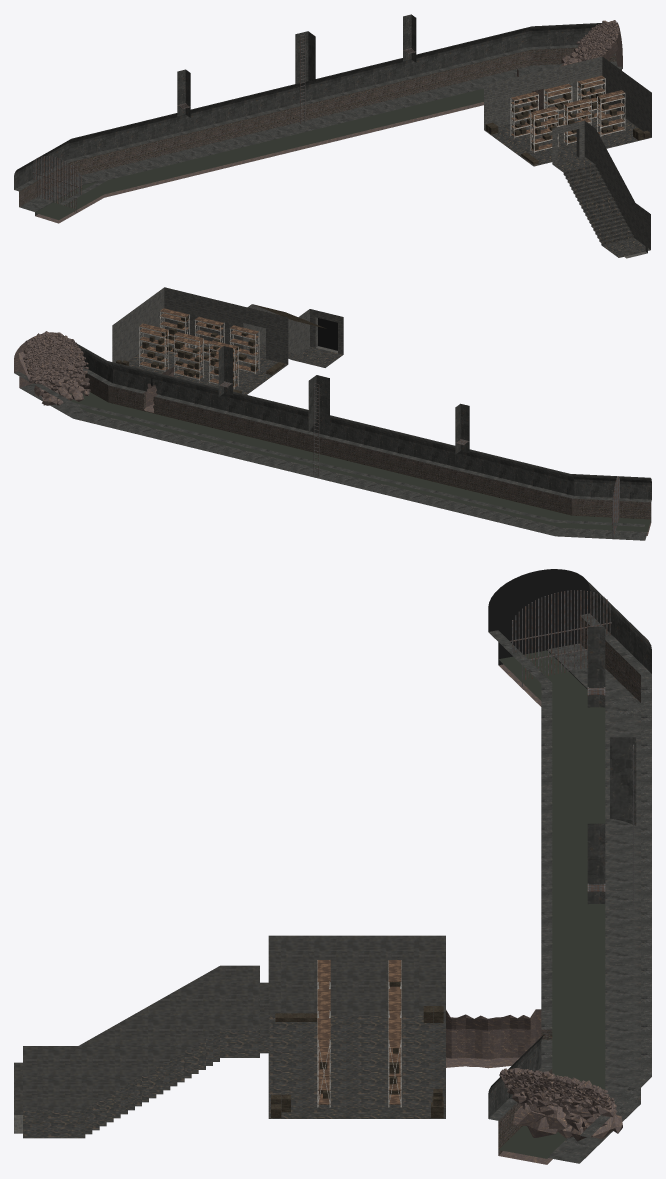
File: sewer.7d7235e5.gltf
3 views of the same model, one above another, from view 1: azimuth 30°, elevation 25°; view 2: azimuth 150°, elevation 25°; view 3: azimuth 270°, elevation 25° (orthographic). The views are drawn at different scales.
Visible parts, largest first — view 1: sewer-mesh; view 2: sewer-mesh; view 3: sewer-mesh.
Boxes of the visible parts, x1,y1,x2,y2 form: sewer-mesh: (14, 14, 651, 258); sewer-mesh: (14, 287, 651, 540); sewer-mesh: (14, 569, 651, 1164).
Bounding box in the file's own units: 55.99 × 12 × 28.8.
12 materials, 9 textured.
